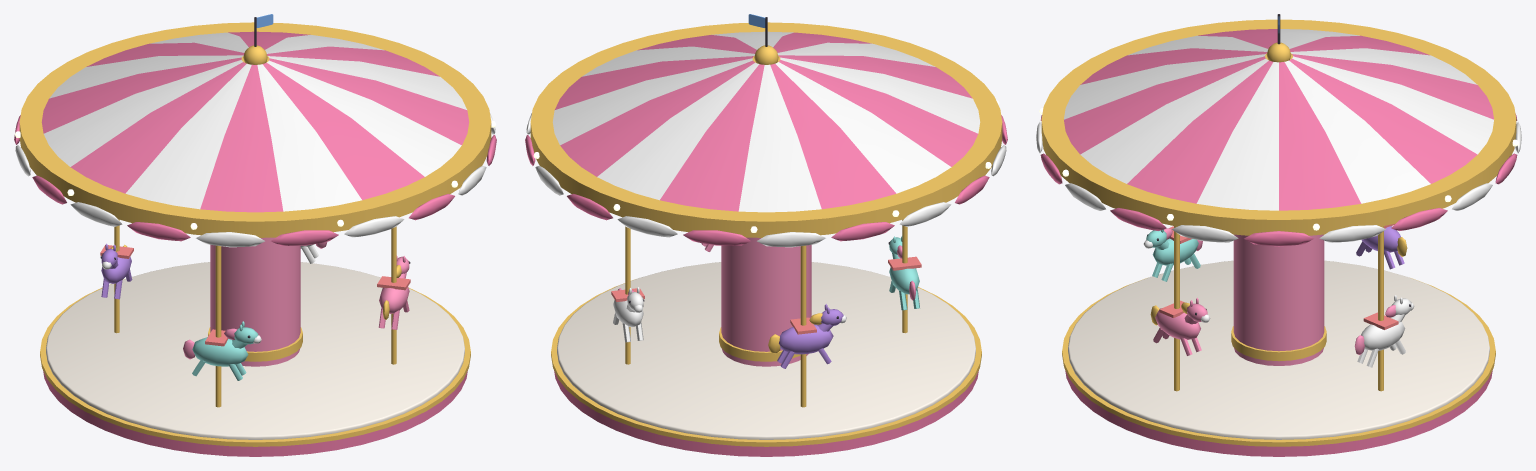
Rendered from carousel_small.glb.
The picture shows the model from 3 angles, left to right: view 1: azimuth 30°, elevation 25°; view 2: azimuth 150°, elevation 25°; view 3: azimuth 270°, elevation 25°; orthographic projection.
Visible parts, largest first — view 1: carousel_small; view 2: carousel_small; view 3: carousel_small.
Boxes of the visible parts, left/top/right/bottom form: carousel_small: left=14, top=14, right=496, bottom=456; carousel_small: left=525, top=14, right=1007, bottom=456; carousel_small: left=1036, top=14, right=1521, bottom=456.
Size of the model in its own units: 5.89 by 4.71 by 5.89.
